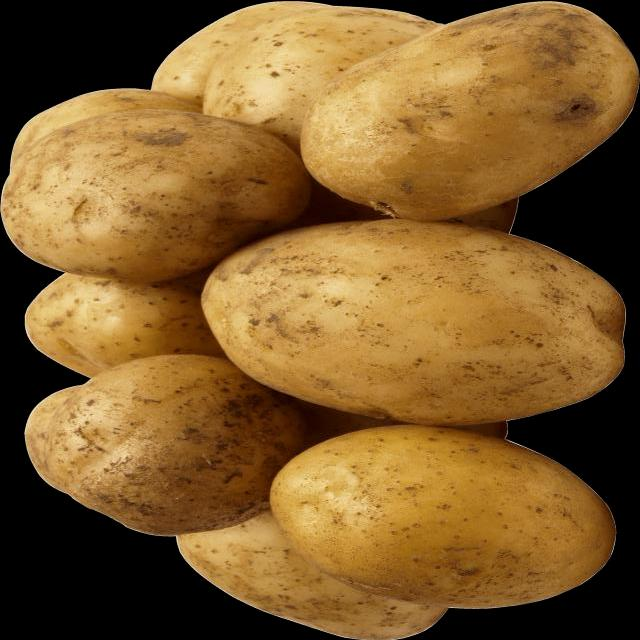potato: (205, 218, 631, 418), (285, 2, 640, 236), (1, 97, 308, 299), (279, 430, 618, 606), (22, 354, 284, 538), (175, 487, 452, 639), (176, 3, 450, 141), (16, 251, 218, 383)
